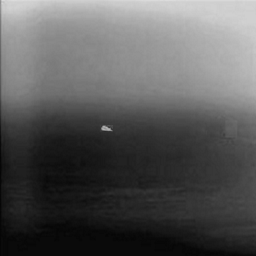Target: (99, 125, 113, 132)
